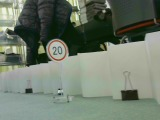speed_20: (44, 37, 68, 62)
